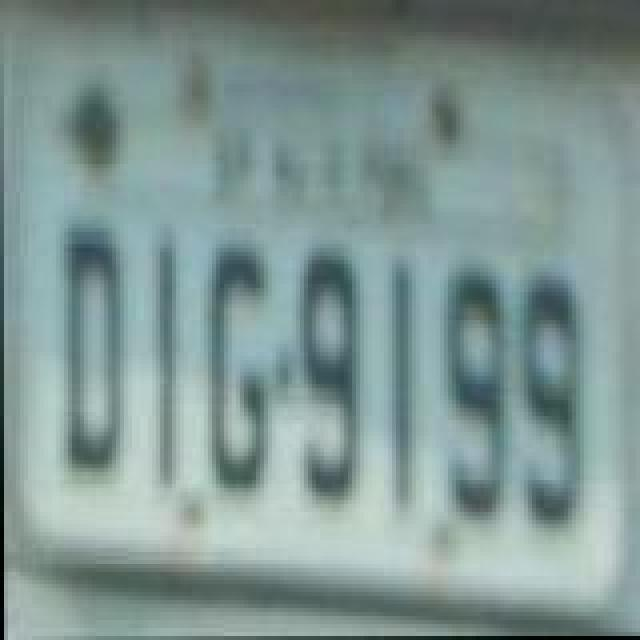1: (386, 254, 418, 526), (148, 224, 176, 496)
9: (296, 238, 364, 510), (440, 266, 508, 530), (516, 274, 584, 534)
D: (56, 220, 124, 484)
G: (202, 244, 266, 496)
